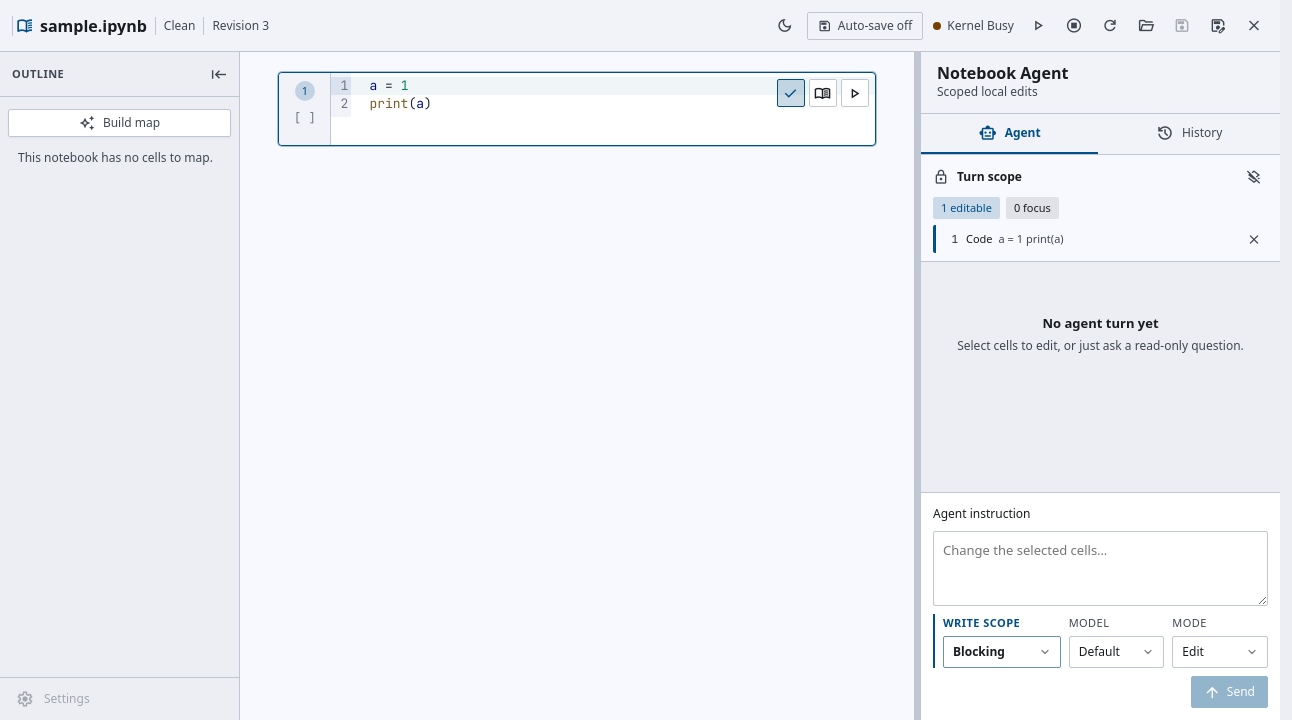
remediation behaviors › does not let a refresh started before run-cell clear the created operation
Expected: the text "Revision 3" is shown, [203, 16, 269, 34]
What coordinates should you click on to do the following:
click the button named "Run code cell 1"
I would click on:
 (855, 93)
Its box is [841, 79, 869, 107].
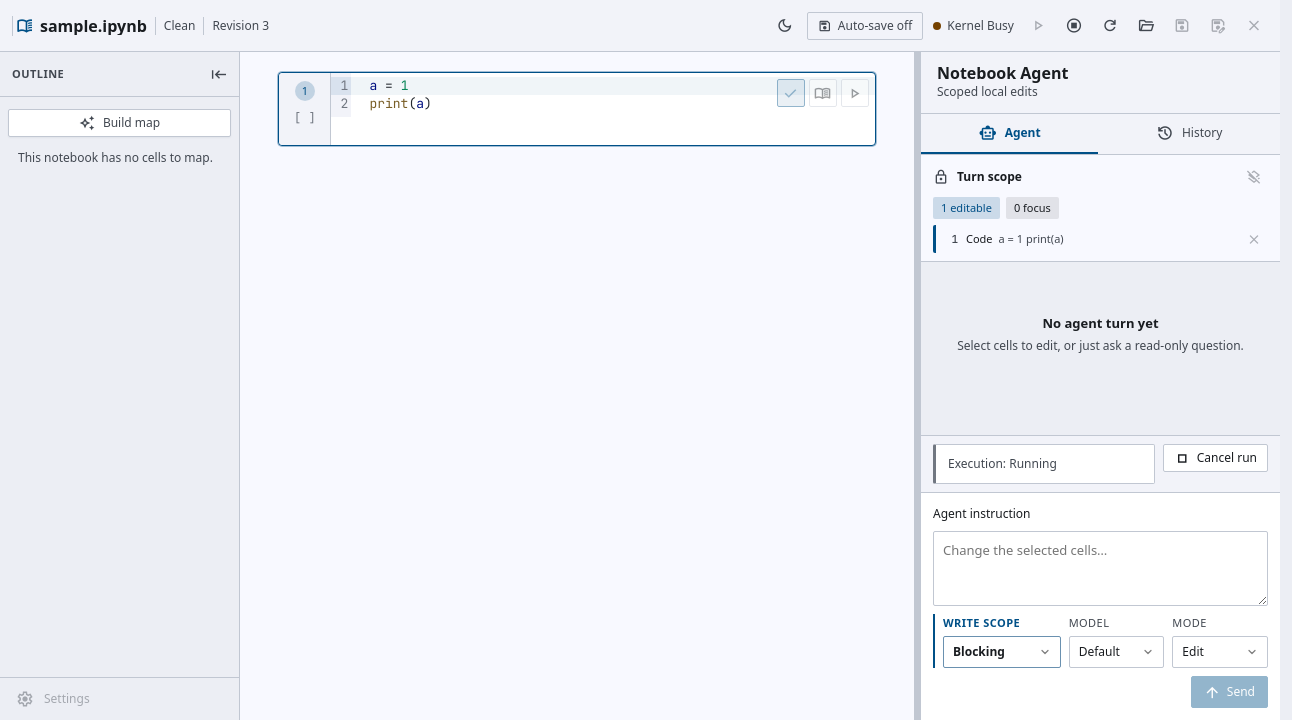
Expected: the text "Execution: running" is shown, [948, 455, 1057, 472]
Expected: the button named "Run code cell 1" is disabled, [841, 79, 869, 107]
